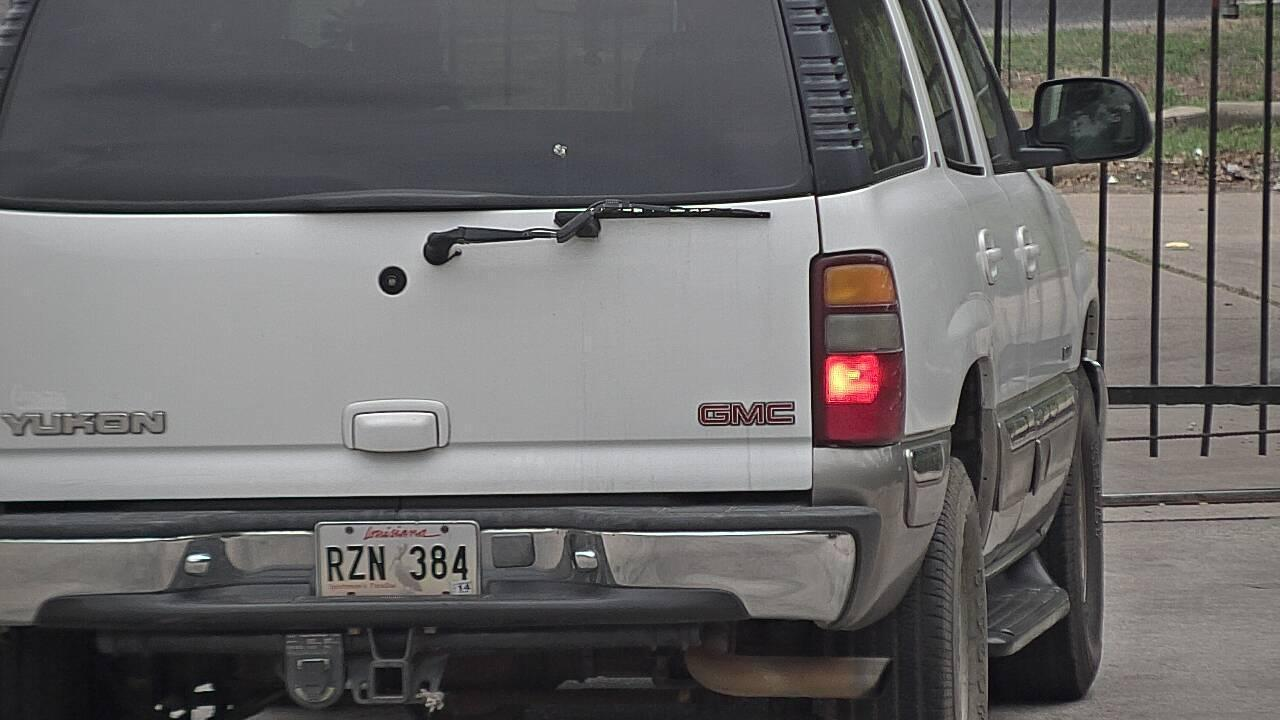placa de veiculo: (303, 497, 498, 621)
